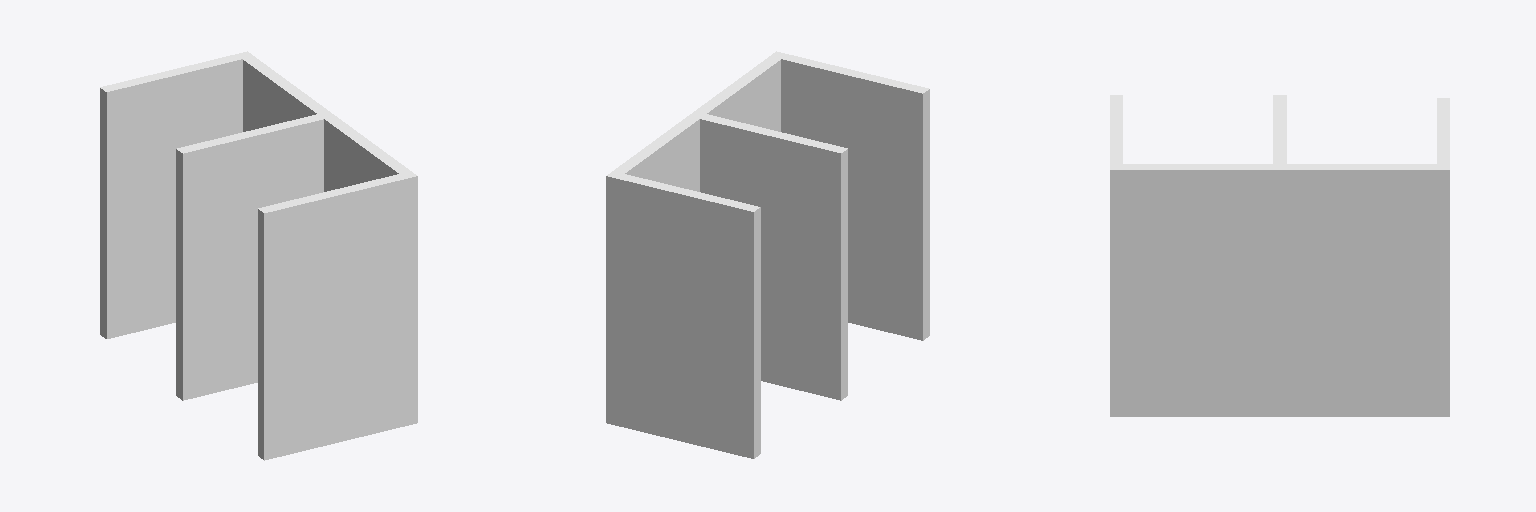
3 views of the same model, side by side, from view 1: azimuth 30°, elevation 25°; view 2: azimuth 150°, elevation 25°; view 3: azimuth 270°, elevation 25° (orthographic).
Visible parts, largest first — view 1: wall_3_15, wall_4_22, wall_1_4, wall_2_10, wall_2_11, wall_2_12, wall_1_3, wall_3_16, wall_4_21; view 2: wall_1_3, wall_4_21, wall_3_16, wall_2_10, wall_1_4, wall_3_15, wall_2_11, wall_2_12, wall_4_22; view 3: wall_2_9, wall_2_11, wall_2_12.
Boxes of the visible parts, box(x1,y1,x2,y2) form: wall_3_15: box(261, 176, 417, 460); wall_4_22: box(179, 119, 323, 400); wall_1_4: box(103, 59, 242, 338); wall_2_10: box(243, 60, 398, 191); wall_2_11: box(245, 51, 416, 175); wall_2_12: box(243, 56, 407, 174); wall_1_3: box(100, 88, 102, 336); wall_3_16: box(258, 209, 260, 457); wall_4_21: box(176, 149, 178, 397); wall_1_3: box(606, 176, 756, 458); wall_4_21: box(700, 119, 844, 400); wall_3_16: box(781, 59, 925, 340); wall_2_10: box(625, 60, 780, 191); wall_1_4: box(757, 207, 760, 456); wall_3_15: box(926, 89, 929, 337); wall_2_11: box(607, 51, 778, 175); wall_2_12: box(616, 56, 780, 174); wall_4_22: box(845, 149, 847, 397); wall_2_9: box(1110, 170, 1449, 416); wall_2_11: box(1110, 167, 1449, 169); wall_2_12: box(1118, 164, 1441, 166).
Size of the model in its own units: 99.06 by 152 by 190.